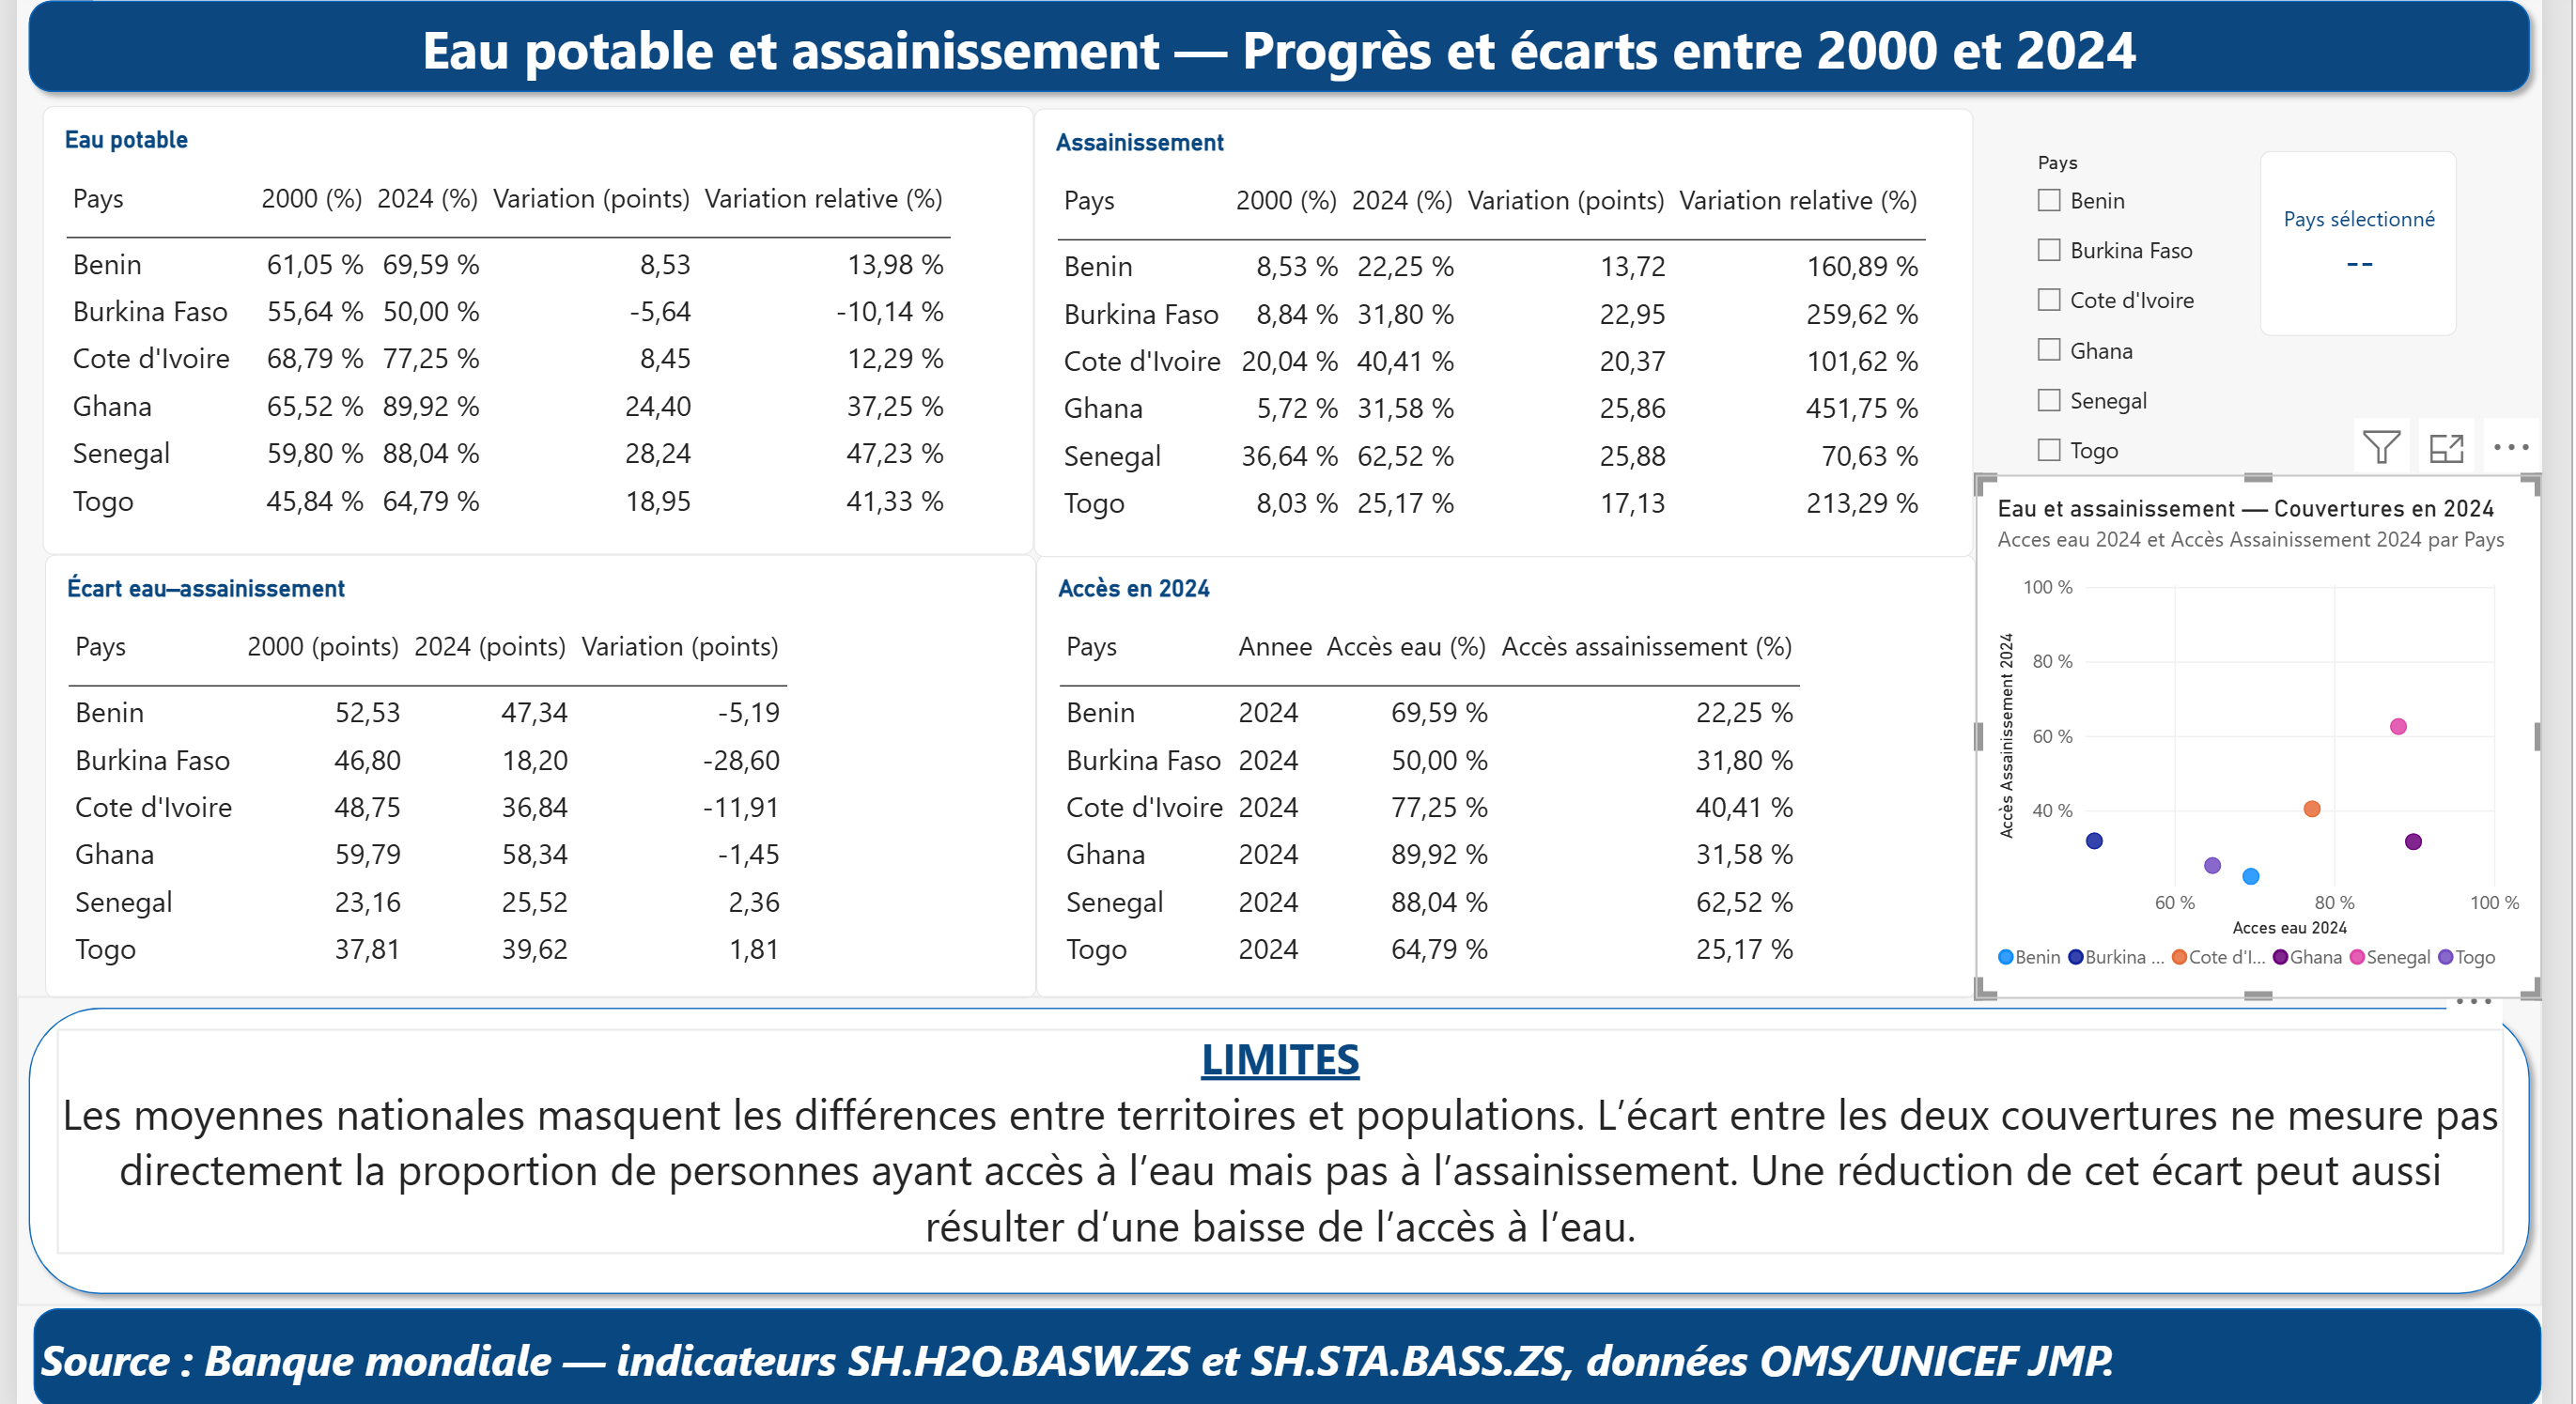

The page's visual inventory and layout, read from the dashboard file:
{"tool":"powerbi","page":{"name":"Progressiosn et ecarts","canvas":[1920,1080],"ordinal":1},"visuals":[{"type":"tableEx","title":"Accès en 2024","fields":{"Values":["Eau_Assainissemen.Pays","Eau_Assainissemen.Annee","Eau_Assainissemen.Accès eau (%)","Eau_Assainissemen.Accès assainissement (%)"]},"box":[774.6,430.4,714.3,337.5],"z":0},{"type":"shape","box":[0,766.1,1919.7,235.7],"z":0,"group":"g1"},{"type":"tableEx","title":"Assainissement","fields":{"Values":["Eau_Assainissemen.Pays","Eau_Assainissemen.Accès Assainissement 2000","Eau_Assainissemen.Accès Assainissement 2024","Eau_Assainissemen.Variation point accès Assainissement 2000-2024","Eau_Assainissemen.Variation Acces Assainissement 2000-2024 %"]},"box":[772.5,90.7,714.3,341.1],"z":1000},{"type":"textbox","box":[30.4,790.3,1860.7,172.7],"z":1000,"group":"g1"},{"type":"tableEx","title":"Eau potable","fields":{"Values":["Eau_Assainissemen.Pays","Eau_Assainissemen.Acces eau 2000","Eau_Assainissemen.Acces eau 2024","Eau_Assainissemen.Variation point acces eau 2000-2024","Eau_Assainissemen.Variation Accès eau 2000-2024 %"]},"box":[18.9,88.9,753.6,341.1],"z":2000},{"type":"tableEx","title":"Écart eau–assainissement","fields":{"Values":["Eau_Assainissemen.Pays","Eau_Assainissemen.Écart eau assainissement 2000 (points)","Eau_Assainissemen.Écart eau assainissement 2024 (points)","Eau_Assainissemen.Variation écart 2000-2024 (points)"]},"box":[21.1,430.4,753.6,337.5],"z":3000},{"type":"shape","box":[12.5,1003.2,1907.2,76.8],"z":4000},{"type":"group","id":"g1","title":"Groupe 1","box":[0,766.1,1919.7,235.7],"z":5000},{"type":"textbox","box":[0,236,280,193],"z":6000},{"type":"shape","box":[0,0,1919.7,87.5],"z":7000},{"type":"scatterChart","title":"Eau et assainissement — Couvertures en 2024","fields":{"X":["Eau_Assainissemen.Acces eau 2024"],"Series":["Eau_Assainissemen.Pays"],"Y":["Eau_Assainissemen.Accès Assainissement 2024"]},"box":[1489.3,369.6,430.4,398.2],"z":8000},{"type":"slicer","fields":{"Values":["Eau_Assainissemen.Pays"]},"box":[1529.3,123.9,150,276.8],"z":9000},{"type":"cardVisual","fields":{"Data":["Eau_Assainissemen.Pays sélectionné"]},"box":[1705.4,123.2,150,141.1],"z":10000}]}

Visuals, with their boxes on the page's 1920x1080 design canvas (x1, y1, x2, y2). These are canvas units, not pixel positions in the 2576x1404 screenshot, which may show the page scaled, cropped or inside an application window:
"Accès en 2024" tableEx: (775,430,1489,768)
shape: (0,766,1920,1002)
"Assainissement" tableEx: (772,91,1487,432)
textbox: (30,790,1891,963)
"Eau potable" tableEx: (19,89,772,430)
"Écart eau–assainissement" tableEx: (21,430,775,768)
shape: (12,1003,1920,1080)
"Groupe 1" group: (0,766,1920,1002)
textbox: (0,236,280,429)
shape: (0,0,1920,88)
"Eau et assainissement — Couvertures en 2024" scatterChart: (1489,370,1920,768)
slicer - Eau_Assainissemen.Pays: (1529,124,1679,401)
cardVisual - Eau_Assainissemen.Pays sélectionné: (1705,123,1855,264)
